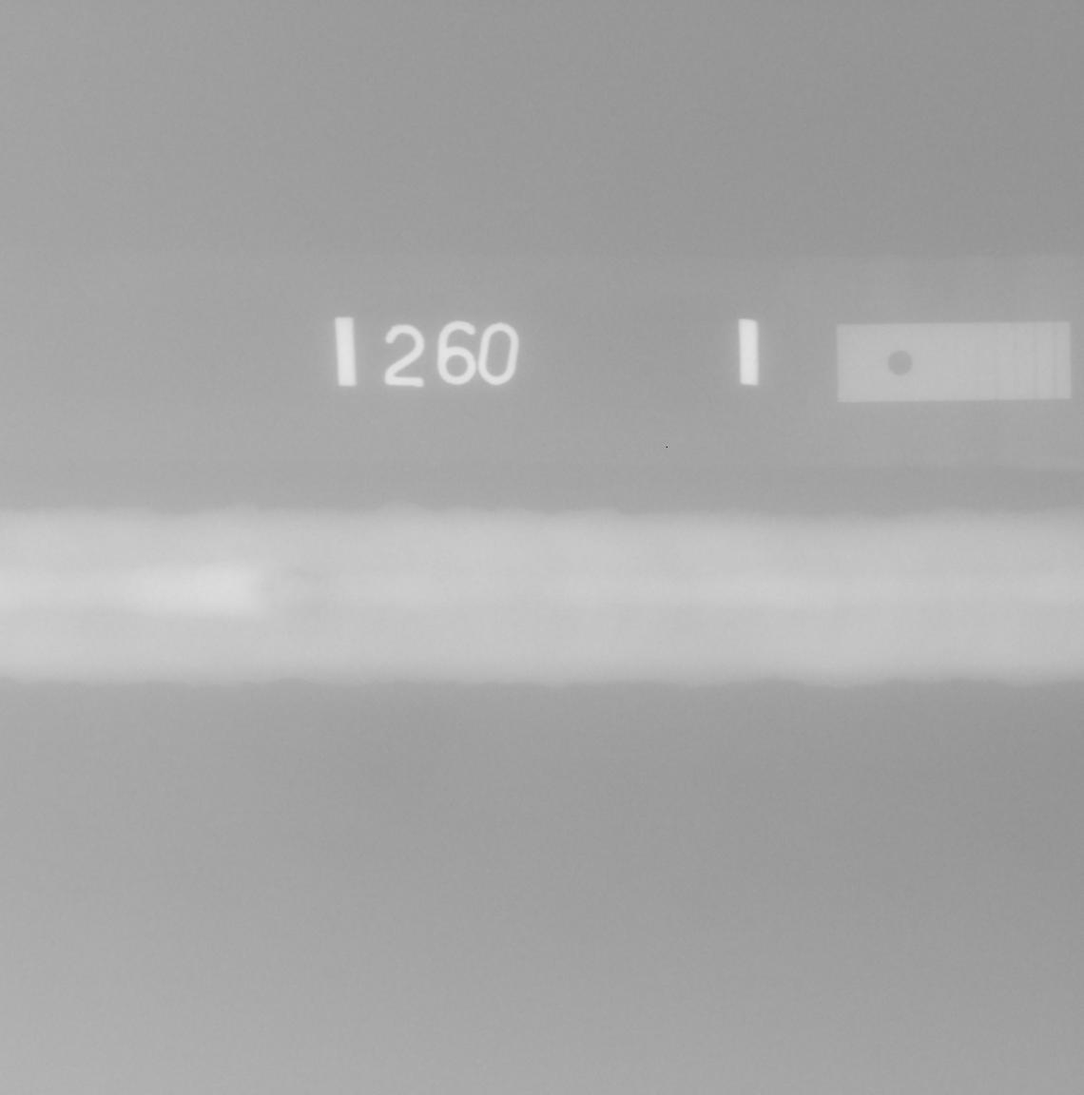Inclusion: (295, 566, 334, 580)
Reference Standard 1: (837, 321, 1071, 402)
